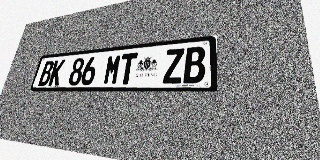6: (80, 56, 99, 85)
8: (67, 57, 86, 85)
B: (183, 46, 206, 83), (38, 60, 55, 86)
K: (48, 59, 65, 86)
M: (102, 54, 122, 85)
T: (118, 52, 138, 85)
Z: (163, 48, 184, 84)
